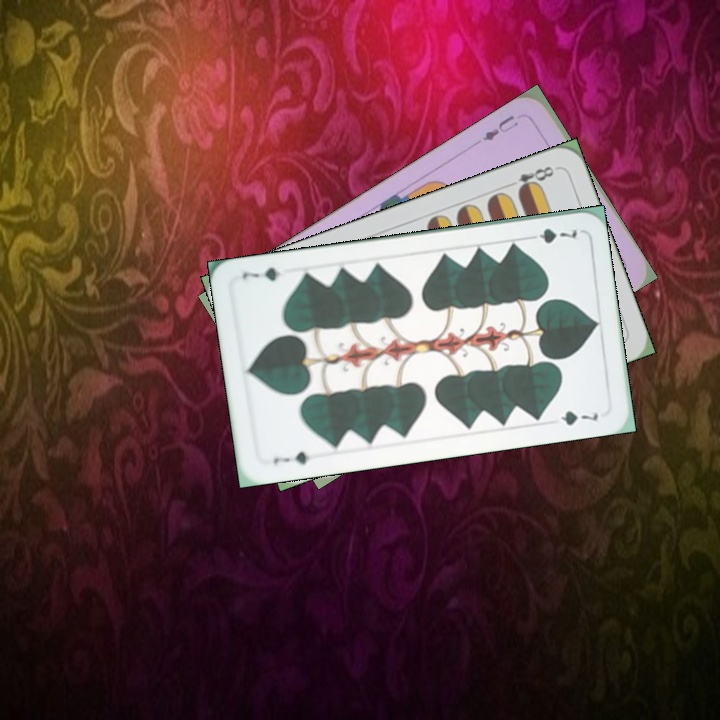E8: (502, 162, 557, 196)
EU: (478, 110, 521, 144)
G7: (522, 224, 582, 246), (269, 447, 312, 467)
